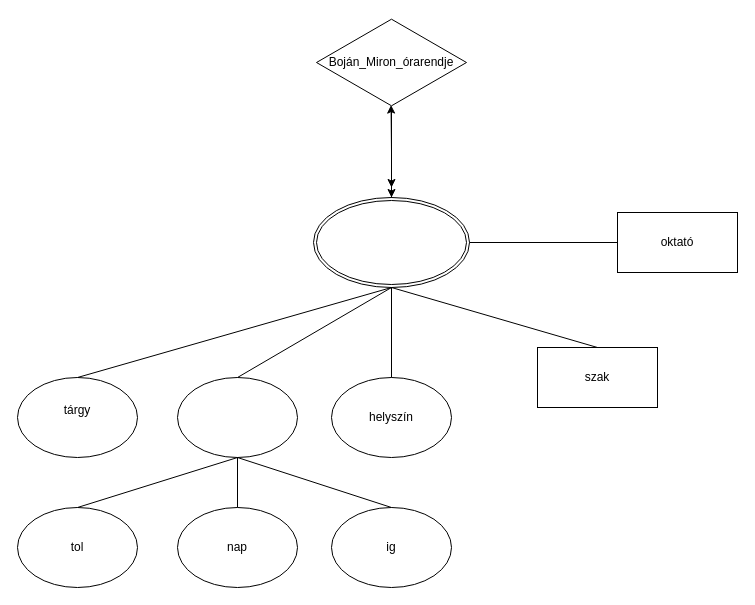
Some shapes in this 755 by 605 pixel diagram are drawn without their labels. The centre of each missing label's shape, as x and y in pixels:
"időpont" belongs at (237,417).
"Óra" belongs at (391,242).
